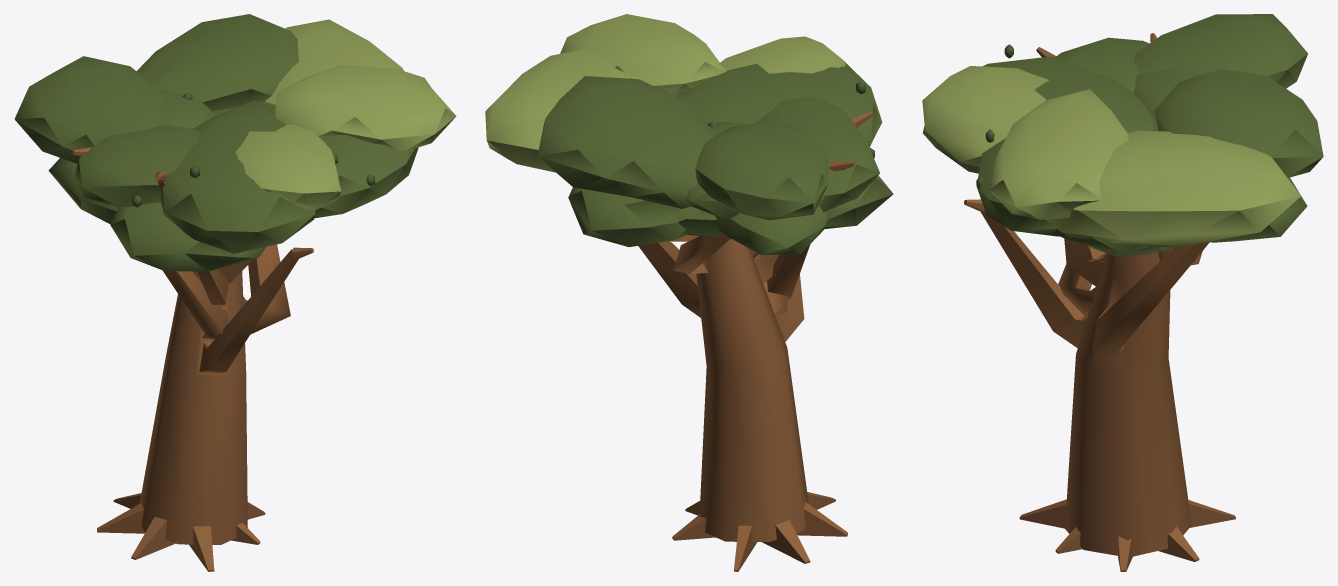
The model's file is tree_olive_a.glb.
3 renders of one model, left to right at view 1: azimuth 30°, elevation 25°; view 2: azimuth 150°, elevation 25°; view 3: azimuth 270°, elevation 25°, orthographic. The views are drawn at different scales.
Visible parts, largest first — view 1: tree_olive_a_LOD0; view 2: tree_olive_a_LOD0; view 3: tree_olive_a_LOD0.
Part boxes in pixels (bbox=[...]): tree_olive_a_LOD0: bbox=[14, 14, 456, 571]; tree_olive_a_LOD0: bbox=[485, 14, 893, 571]; tree_olive_a_LOD0: bbox=[922, 14, 1323, 571].
Size of what is drawn, in the model's own units: 3.52 by 4.49 by 3.29.
